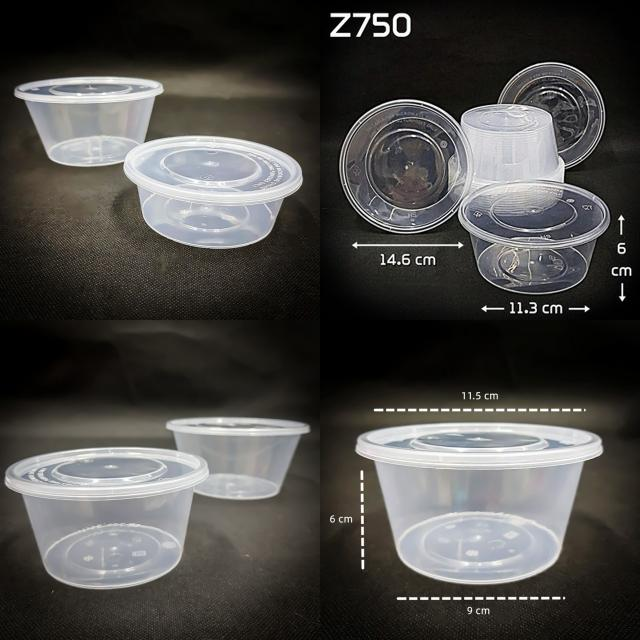Single-Use-Plastic: (356, 422, 602, 584), (5, 448, 209, 588), (124, 136, 302, 249), (339, 99, 472, 234), (459, 180, 610, 295), (15, 76, 164, 166), (166, 418, 310, 499), (499, 62, 605, 168), (461, 104, 564, 189)
